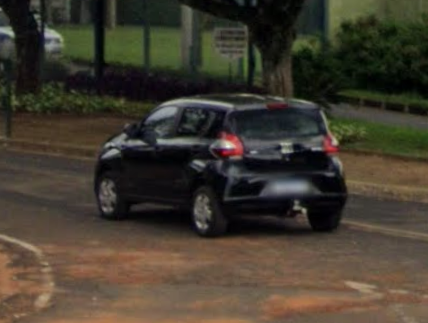car: (87, 80, 353, 247)
